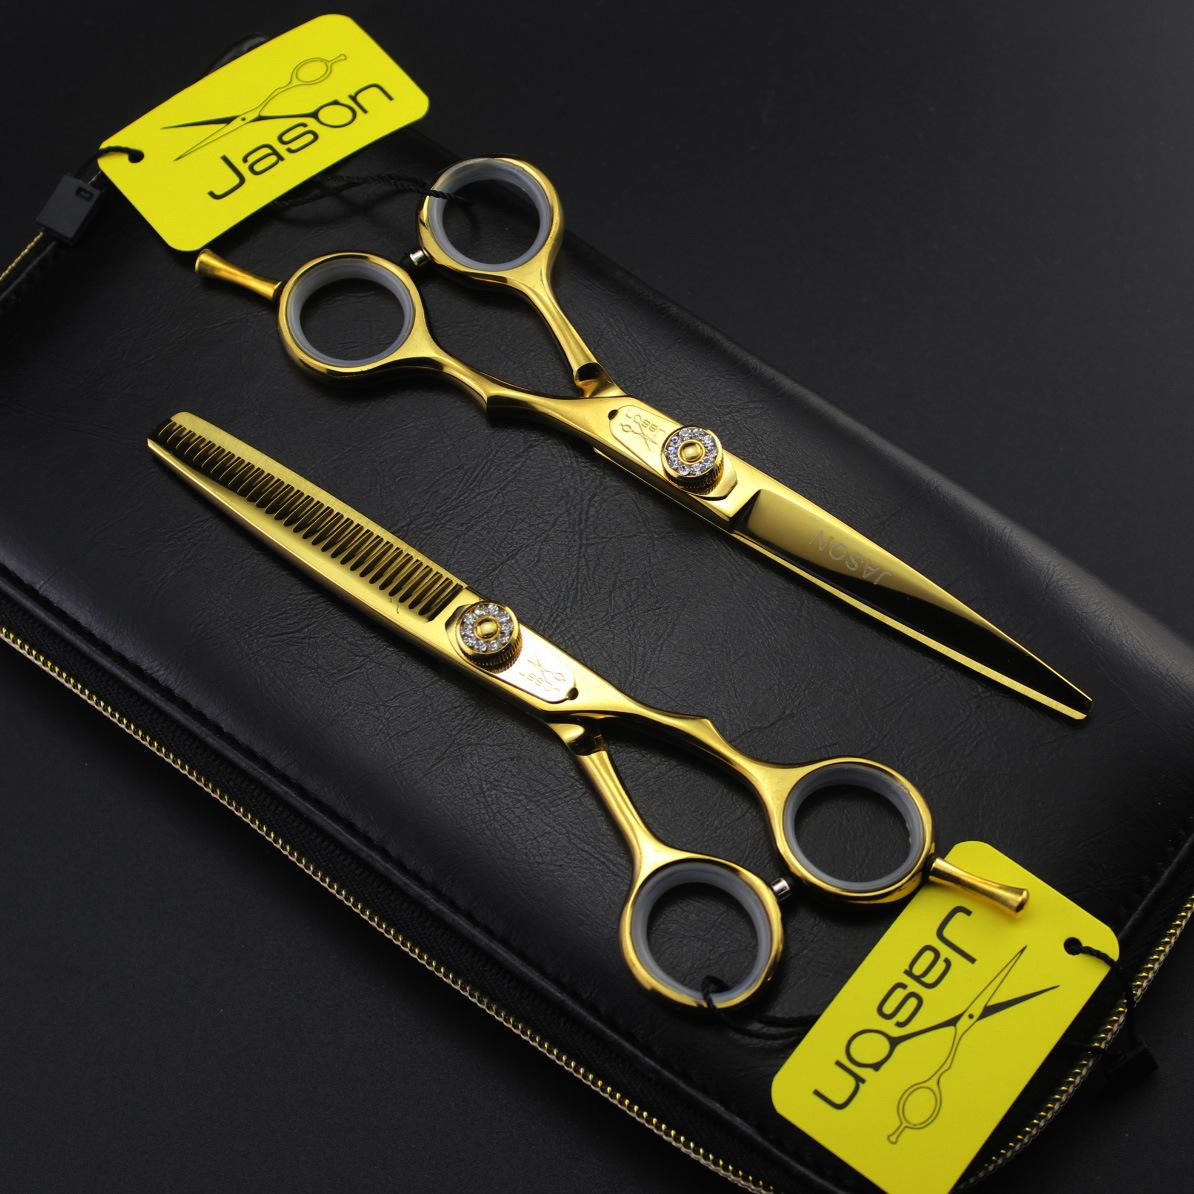scissor: (182, 182, 1093, 1050)
